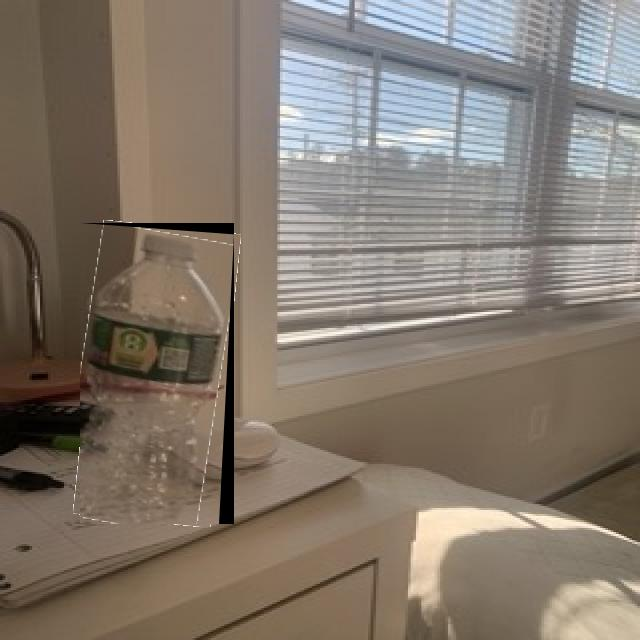water_bottle: (80, 223, 234, 524)
